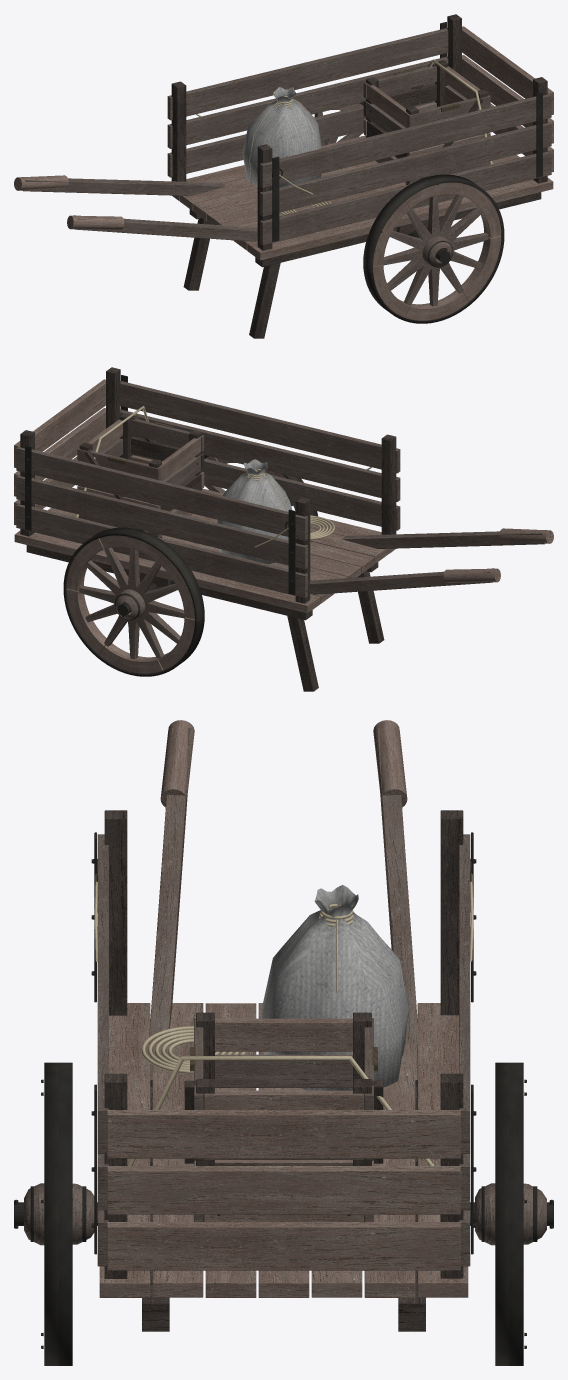
The model's file is Handcart.gltf.
The picture shows the model from 3 angles, top to bottom: view 1: azimuth 30°, elevation 25°; view 2: azimuth 150°, elevation 25°; view 3: azimuth 270°, elevation 25°; orthographic projection. The views are drawn at different scales.
Visible parts, largest first — view 1: Handcart; view 2: Handcart; view 3: Handcart.
Boxes of the visible parts, bbox=[...] form: Handcart: bbox=[14, 14, 553, 338]; Handcart: bbox=[14, 367, 553, 691]; Handcart: bbox=[14, 720, 553, 1365].
Size of the model in its own units: 2.39 by 0.973 by 1.22.
7 materials, 7 textured.
